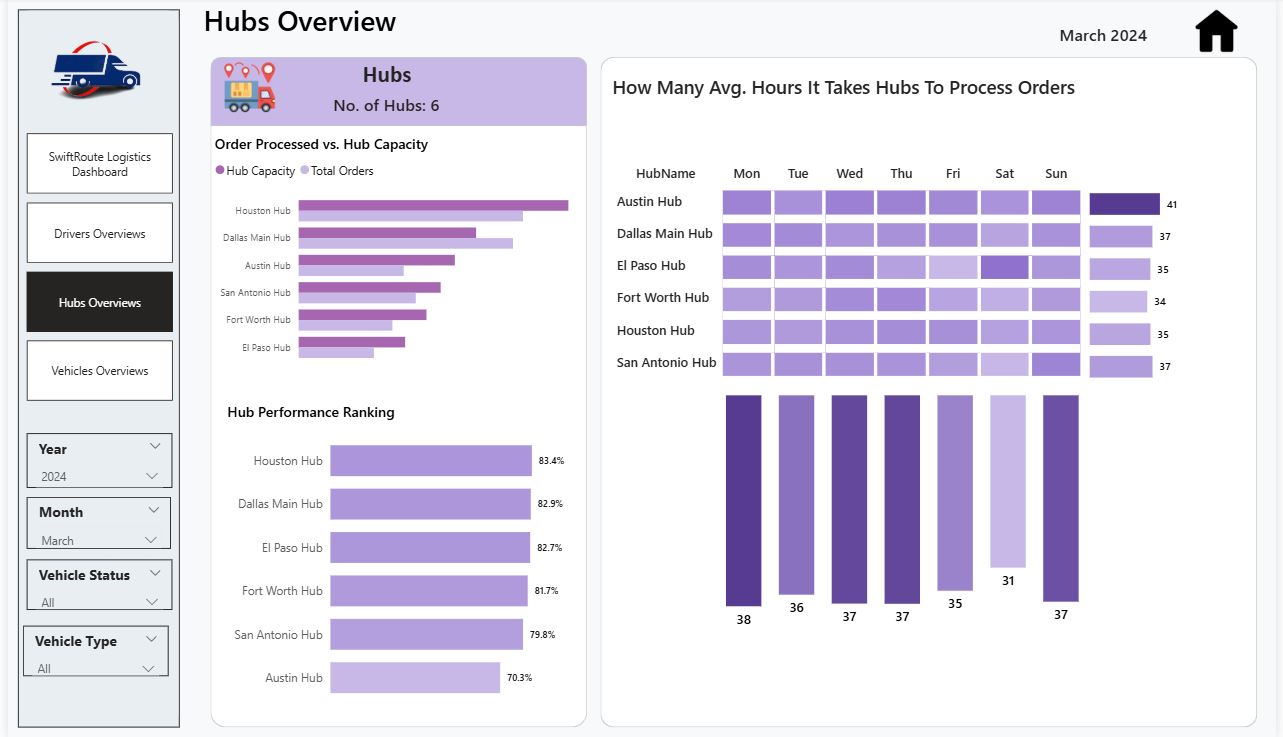

Layout of this report page (visuals, bound fields, positions):
{"tool":"powerbi","page":{"name":"Hubs Overviews","canvas":[1450,850],"ordinal":2},"visuals":[{"type":"shape","box":[10.9,14,185,820.8],"z":0},{"type":"textbox","box":[219.2,0,505.2,57.5],"z":1000},{"type":"slicer","fields":{"Values":["Date Table.Year"]},"box":[21.8,499,166.3,62.2],"z":2000},{"type":"slicer","fields":{"Values":["Date Table.Month"]},"box":[21.8,572,164.8,59.1],"z":3000},{"type":"image","box":[20.2,23.3,163.2,118.1],"z":4000},{"type":"cardVisual","fields":{"Data":["Selected Measures.Year Month Title"]},"box":[1123.9,14,258,54.4],"z":5000},{"type":"shape","box":[677.7,68.4,750.8,766.4],"z":6000},{"type":"image","box":[1350.8,9.3,62.2,57.5],"z":7000},{"type":"shape","box":[231.6,68.4,430.6,766.4],"z":8000},{"type":"shape","box":[231.6,68.4,430.6,79.3],"z":9000},{"type":"textbox","box":[374.6,66.8,118.1,52.9],"z":10000},{"type":"cardVisual","fields":{"Data":["Selected Measures.No. Of Hubs"]},"box":[338.9,94.8,188.1,56],"z":11000},{"type":"clusteredBarChart","title":"Order Processed vs. Hub Capacity","fields":{"Category":["Hubs.HubName"],"Y":["Sum(Hubs.Hub Capacity)","Selected Measures.Total Orders"]},"box":[231.6,155.4,430.6,275.1],"z":12000},{"type":"barChart","title":"Hub Performance Ranking","fields":{"Category":["Hubs.HubName"],"Y":["Selected Measures.On-Time Delivery Rate"]},"box":[245.6,463.2,404.2,359.1],"z":13000},{"type":"pivotTable","fields":{"Rows":["Hubs.HubName"],"Columns":["Date Table.Day"],"Values":["Selected Measures.Avg. Delivery Time(Hrs)"]},"box":[685.5,185,545.6,298.5],"z":14000},{"type":"columnChart","fields":{"Category":["Date Table.Day"],"Y":["Selected Measures.Avg. Delivery Time(Hrs)"]},"box":[816.1,441.5,415,289.1],"z":15000},{"type":"barChart","fields":{"Category":["Hubs.HubName"],"Y":["Selected Measures.Avg. Delivery Time(Hrs)"]},"box":[1231.1,211.4,197.4,230.1],"z":16000},{"type":"slicer","fields":{"Values":["Vehicles.Vehicle Status"]},"box":[21.8,643.5,166.3,57.5],"z":17000},{"type":"slicer","fields":{"Values":["Orders.Vehicle Type"]},"box":[17.1,718.2,166.3,57.5],"z":18000},{"type":"textbox","box":[685.5,82.4,682.4,54.4],"z":19000},{"type":"pageNavigator","box":[21.8,155.4,167.9,307.8],"z":20000},{"type":"image","box":[245.6,66.8,60.6,71.5],"z":21000}]}

Visuals, with their boxes in screenshot pixels (x1, y1, x2, y2), scaled from the page's 1450x850 canvas onto the 1283x737 screenshot:
shape: BBox(10, 12, 173, 724)
textbox: BBox(194, 0, 641, 50)
slicer - Date Table.Year: BBox(19, 433, 166, 487)
slicer - Date Table.Month: BBox(19, 496, 165, 547)
image: BBox(18, 20, 162, 123)
cardVisual - Selected Measures.Year Month Title: BBox(994, 12, 1223, 59)
shape: BBox(600, 59, 1264, 724)
image: BBox(1195, 8, 1250, 58)
shape: BBox(205, 59, 586, 724)
shape: BBox(205, 59, 586, 128)
textbox: BBox(331, 58, 436, 104)
cardVisual - Selected Measures.No. Of Hubs: BBox(300, 82, 466, 131)
"Order Processed vs. Hub Capacity" clusteredBarChart: BBox(205, 135, 586, 373)
"Hub Performance Ranking" barChart: BBox(217, 402, 575, 713)
pivotTable - Hubs.HubName x Date Table.Day: BBox(607, 160, 1089, 419)
columnChart - Date Table.Day x Selected Measures.Avg. Delivery Time(Hrs): BBox(722, 383, 1089, 633)
barChart - Hubs.HubName x Selected Measures.Avg. Delivery Time(Hrs): BBox(1089, 183, 1264, 383)
slicer - Vehicles.Vehicle Status: BBox(19, 558, 166, 608)
slicer - Orders.Vehicle Type: BBox(15, 623, 162, 673)
textbox: BBox(607, 71, 1210, 119)
pageNavigator: BBox(19, 135, 168, 402)
image: BBox(217, 58, 271, 120)
